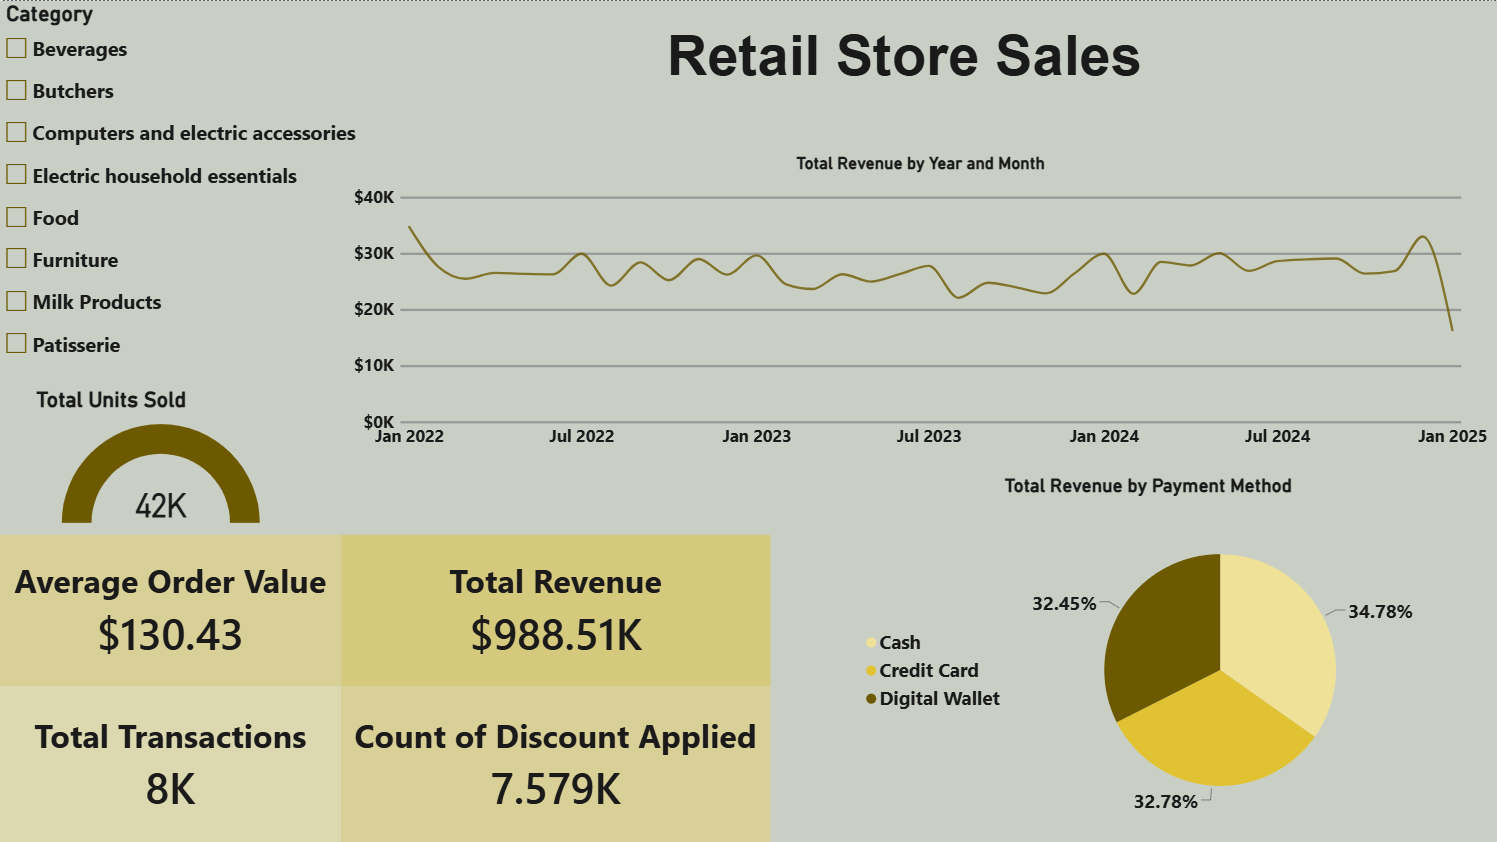

What the dashboard file says about the page in this screenshot:
{"tool":"powerbi","page":{"name":"Page 1","canvas":[1920,1080],"ordinal":0},"visuals":[{"type":"textbox","box":[778.5,28.6,760.6,152.1],"z":0},{"type":"slicer","fields":{"Values":["vw_vendas_limpas_202610040518.Category"]},"box":[0,0,574.5,479.6],"z":1000},{"type":"pieChart","fields":{"Category":["vw_vendas_limpas_202610040518.Payment Method"],"Y":["vw_vendas_limpas_202610040518.Total Revenue"]},"box":[1089.9,592.4,760.6,486.8],"z":2000},{"type":"lineChart","fields":{"Category":["vw_vendas_limpas_202610040518.Transaction Date.Variation.Date Hierarchy.Year","vw_vendas_limpas_202610040518.Transaction Date.Variation.Date Hierarchy.Month"],"Y":["vw_vendas_limpas_202610040518.Total Revenue"]},"box":[436.7,180.8,1483.7,411.6],"z":3000},{"type":"gauge","title":"Total Units Sold","fields":{"Y":["vw_vendas_limpas_202610040518.Total Units Sold"]},"box":[30.4,479.6,350.8,204],"z":4000},{"type":"cardVisual","fields":{"Data":["vw_vendas_limpas_202610040518.Total Transactions"]},"box":[0,877,436.7,202.2],"z":5000},{"type":"cardVisual","fields":{"Data":["vw_vendas_limpas_202610040518.Average Order Value"]},"box":[0,683.7,436.7,193.3],"z":6000},{"type":"cardVisual","fields":{"Data":["vw_vendas_limpas_202610040518.Total Revenue"]},"box":[436.7,683.7,549.4,193.3],"z":7000},{"type":"cardVisual","fields":{"Data":["CountNonNull(vw_vendas_limpas_202610040518.Discount Applied)"]},"box":[436.7,877,549.4,202.2],"z":8000}]}

Visuals, with their boxes in screenshot pixels (x1, y1, x2, y2), scaled from the page's 1920x1080 canvas onto the 1497x842 screenshot:
textbox: [607, 22, 1200, 141]
slicer - vw_vendas_limpas_202610040518.Category: [0, 0, 448, 374]
pieChart - vw_vendas_limpas_202610040518.Payment Method x vw_vendas_limpas_202610040518.Total Revenue: [850, 462, 1443, 841]
lineChart - vw_vendas_limpas_202610040518.Transaction Date.Variation.Date Hierarchy.Year x vw_vendas_limpas_202610040518.Transaction Date.Variation.Date Hierarchy.Month: [340, 141, 1496, 462]
"Total Units Sold" gauge: [24, 374, 297, 533]
cardVisual - vw_vendas_limpas_202610040518.Total Transactions: [0, 684, 340, 841]
cardVisual - vw_vendas_limpas_202610040518.Average Order Value: [0, 533, 340, 684]
cardVisual - vw_vendas_limpas_202610040518.Total Revenue: [340, 533, 769, 684]
cardVisual - CountNonNull(vw_vendas_limpas_202610040518.Discount Applied): [340, 684, 769, 841]
